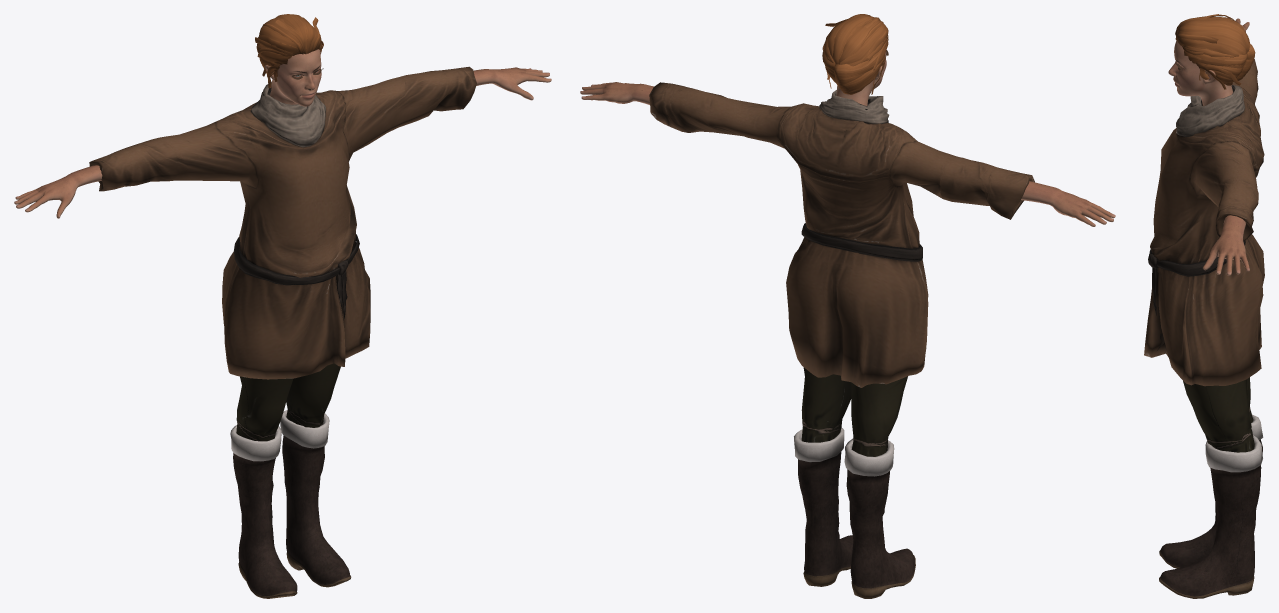
The model's file is woman1.obj.
3 views of the same model, side by side, from view 1: azimuth 30°, elevation 25°; view 2: azimuth 150°, elevation 25°; view 3: azimuth 270°, elevation 25° (orthographic).
Parts seen in each view (by area): view 1: Tops, Shoes, Body, Bottoms, Hair; view 2: Tops, Shoes, Bottoms, Hair, Body; view 3: Tops, Shoes, Hair, Bottoms, Body.
Boxes of the visible parts, x1,y1,x2,y2 form: Tops: [89, 66, 476, 379]; Shoes: [230, 410, 351, 598]; Body: [14, 49, 551, 218]; Bottoms: [236, 363, 340, 441]; Hair: [255, 14, 323, 88]; Tops: [649, 82, 1034, 387]; Shoes: [794, 427, 915, 598]; Bottoms: [801, 367, 907, 456]; Hair: [822, 14, 888, 94]; Body: [580, 51, 1115, 226]; Tops: [1144, 59, 1264, 386]; Shoes: [1159, 414, 1263, 598]; Hair: [1175, 14, 1255, 89]; Bottoms: [1183, 377, 1254, 452]; Body: [1168, 17, 1249, 275].
Size of the model in its own units: 179 by 180 by 35.26.
Materials: 5 (5 with a texture image).
